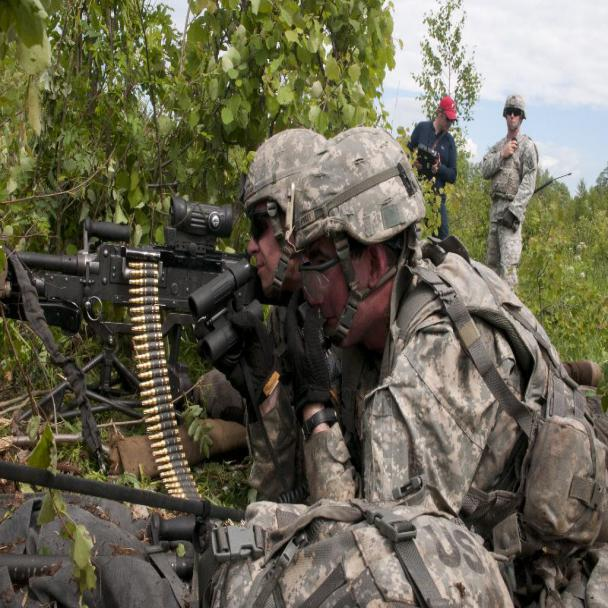Gun: (0, 176, 266, 365)
